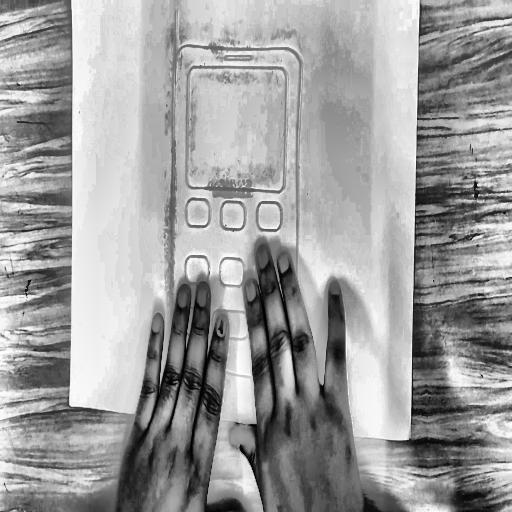bottom_left: (66, 398, 73, 410)
bottom_right: (407, 434, 413, 444)
mobile: (165, 3, 308, 388)
